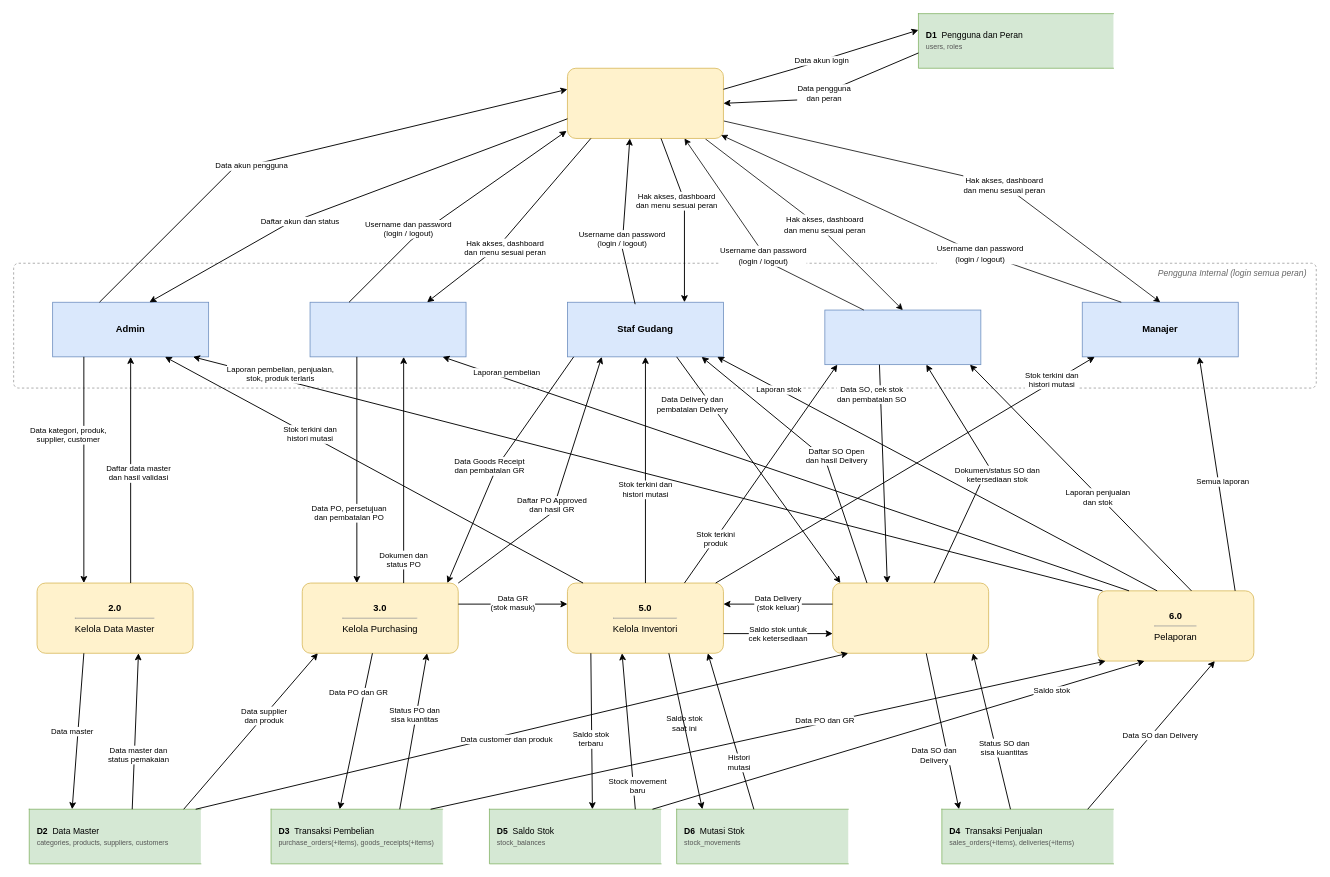
Image size: 1330x877. Some labels were removed from this diagram. The centre of each missing label's shape, as x and y in pixels:
1.0 Autentikasi dan Kelola Akun: point (645, 102)
4.0 Kelola Sales: point (910, 617)
Staf Purchasing: point (387, 329)
Staf Sales: point (902, 337)
